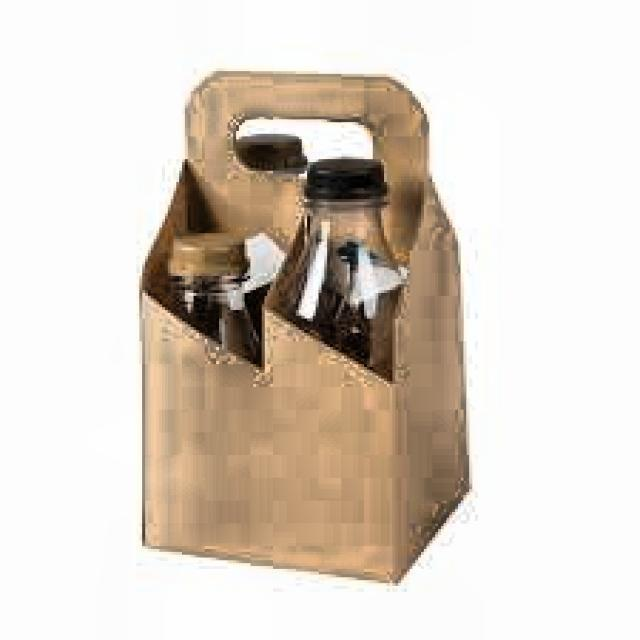cardboard: (137, 66, 472, 584)
